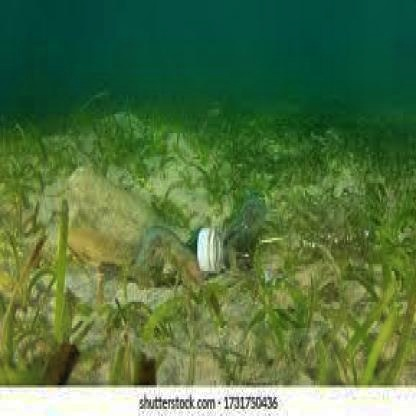pbottle: (192, 162, 367, 288)
